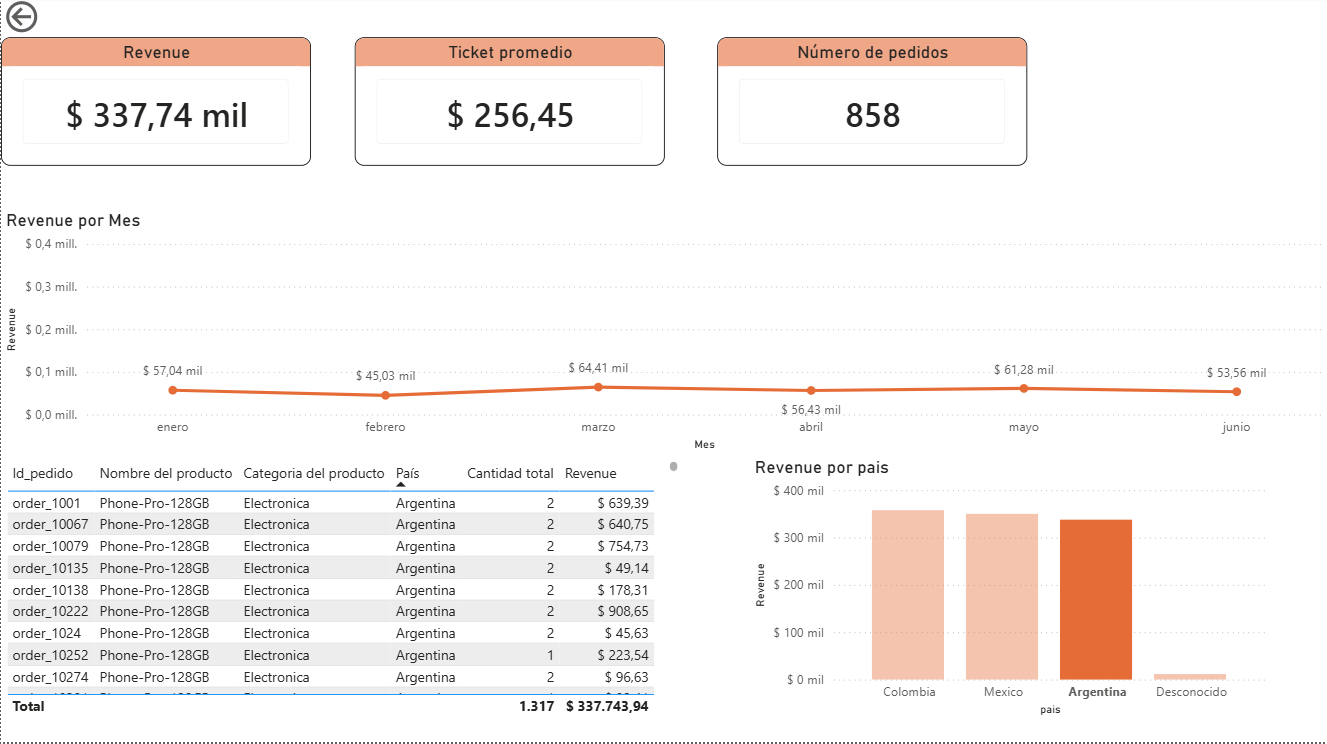

The dashboard page shown, as its layout file describes it:
{"tool":"powerbi","page":{"name":"Producto","canvas":[1280,720],"ordinal":2},"visuals":[{"type":"tableEx","fields":{"Values":["orders_clean.id_pedido","orders_clean.nombre_producto","orders_clean.categoria_producto","orders_clean.pais","orders_clean.cantidad_total","orders_clean.Revenue"]},"box":[0,444,611.7,255.8],"z":0},{"type":"actionButton","box":[0,0,100,40],"z":1000},{"type":"cardVisual","title":"Revenue","fields":{"Data":["orders_clean.Revenue"]},"box":[0,39.8,299.2,124.3],"z":2000},{"type":"lineChart","fields":{"Category":["dim_fecha.Date.Variación.Jerarquía de fechas.Mes"],"Y":["orders_clean.Revenue"]},"box":[0,206.3,1280,237.7],"z":3000},{"type":"clusteredColumnChart","fields":{"Y":["orders_clean.Revenue"],"Category":["orders_clean.pais"]},"box":[722.7,444,504.3,255.8],"z":4000},{"type":"cardVisual","title":"Número de pedidos","fields":{"Data":["Count(orders_clean.id_pedido)"]},"box":[691.3,39.8,299.2,124.3],"z":5000},{"type":"cardVisual","title":"Ticket promedio","fields":{"Data":["orders_clean.ticket_promedio"]},"box":[341.4,39.8,299.2,124.3],"z":6000}]}

Visuals, with their boxes in screenshot pixels (x1, y1, x2, y2), scaled from the page's 1280x720 canvas onto the 1327x744 screenshot:
tableEx - orders_clean.id_pedido x orders_clean.nombre_producto: box(0, 459, 634, 723)
actionButton: box(0, 0, 104, 41)
"Revenue" cardVisual: box(0, 41, 310, 170)
lineChart - dim_fecha.Date.Variación.Jerarquía de fechas.Mes x orders_clean.Revenue: box(0, 213, 1326, 459)
clusteredColumnChart - orders_clean.Revenue x orders_clean.pais: box(749, 459, 1272, 723)
"Número de pedidos" cardVisual: box(717, 41, 1027, 170)
"Ticket promedio" cardVisual: box(354, 41, 664, 170)
